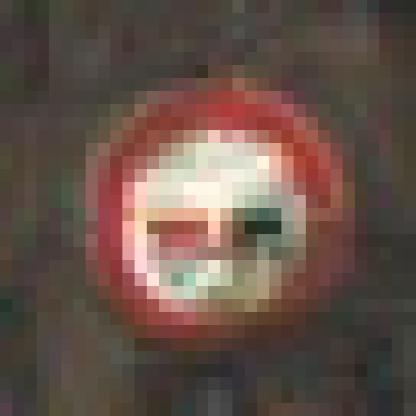No Overtaking: (75, 66, 344, 352)
